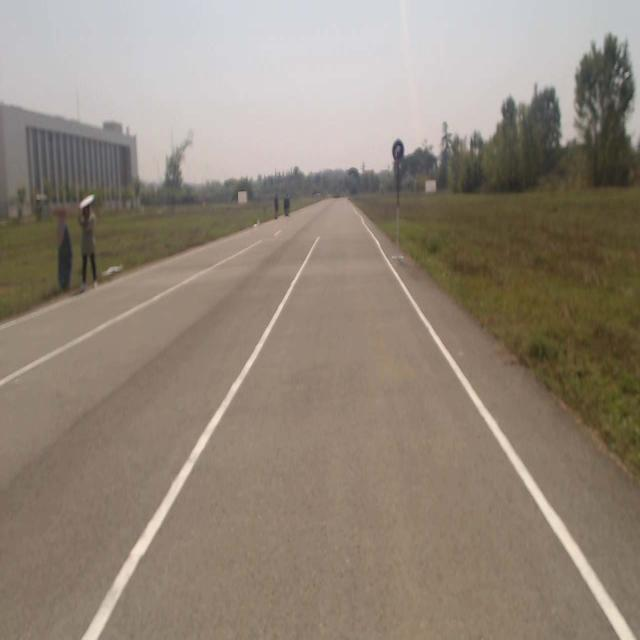sag: (392, 140, 402, 160)
